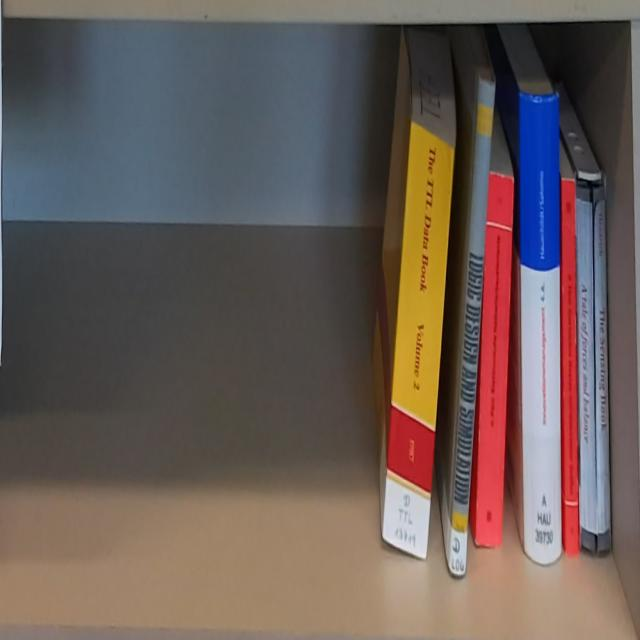Book Spine: (381, 120, 456, 563), (449, 77, 496, 576), (520, 92, 562, 564), (476, 173, 513, 548), (592, 186, 612, 553), (577, 186, 597, 550), (561, 177, 579, 556)
